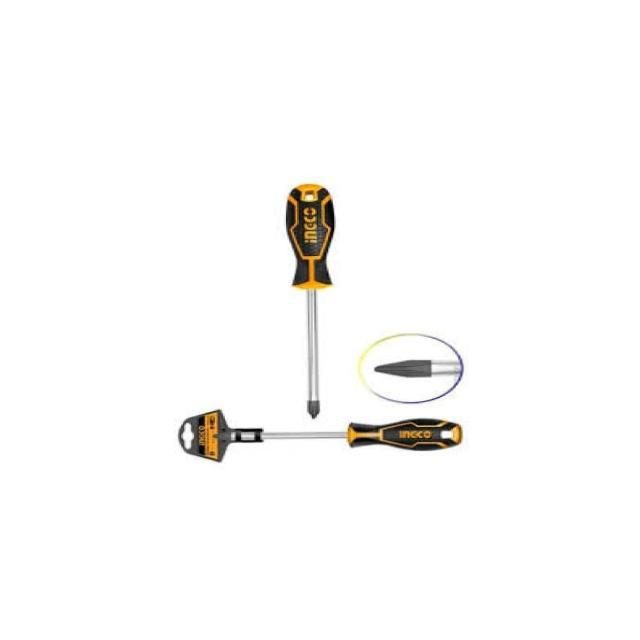screwdriver: (284, 180, 341, 420), (212, 416, 463, 454)
